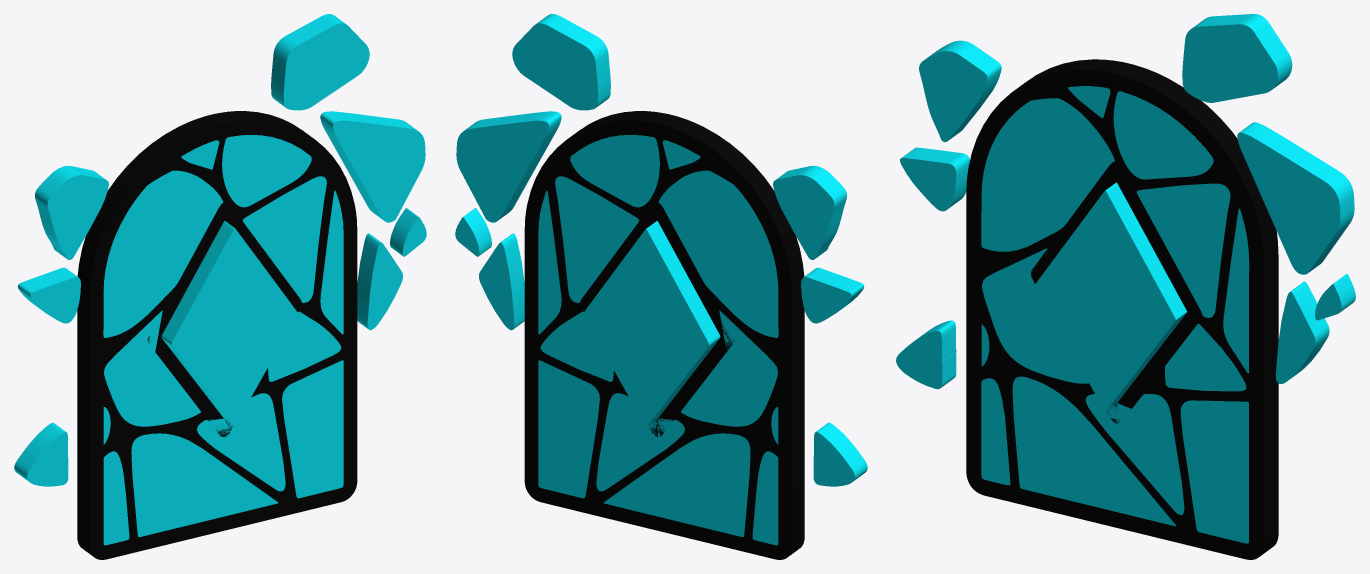
The model's file is M1ALL.fbx.
3 renders of one model, left to right at view 1: azimuth 30°, elevation 25°; view 2: azimuth 150°, elevation 25°; view 3: azimuth 330°, elevation 25°, orthographic. The views are drawn at different scales.
Parts seen in each view (by area): view 1: Fill_16, Fill_32, Fill_30, Fill_28, Fill_14, Fill_40, Fill_12, Fill_18, Fill_34, Fill_36, Fill_10, Fill_42 (+8 smaller); view 2: Fill_16, Fill_32, Fill_30, Fill_28, Fill_14, Fill_40, Fill_12, Fill_18, Fill_34, Fill_36, Fill_10, Fill_42 (+8 smaller); view 3: Fill_16, Fill_32, Fill_30, Fill_28, Fill_14, Fill_40, Fill_12, Fill_34, Fill_18, Fill_36, Fill_42, Fill_10 (+8 smaller).
Part boxes in pixels (x1=…): Fill_16: x1=77, y1=111, x2=357, y2=559; Fill_32: x1=161, y1=221, x2=297, y2=425; Fill_30: x1=103, y1=170, x2=223, y2=337; Fill_28: x1=131, y1=433, x2=278, y2=536; Fill_14: x1=320, y1=111, x2=425, y2=222; Fill_40: x1=282, y1=360, x2=343, y2=498; Fill_12: x1=271, y1=14, x2=369, y2=110; Fill_18: x1=104, y1=310, x2=200, y2=426; Fill_34: x1=242, y1=176, x2=326, y2=302; Fill_36: x1=222, y1=135, x2=311, y2=207; Fill_10: x1=35, y1=165, x2=108, y2=259; Fill_42: x1=197, y1=393, x2=285, y2=491; Fill_16: x1=524, y1=111, x2=804, y2=559; Fill_32: x1=582, y1=221, x2=720, y2=426; Fill_30: x1=658, y1=170, x2=778, y2=337; Fill_28: x1=603, y1=433, x2=750, y2=536; Fill_14: x1=456, y1=111, x2=561, y2=222; Fill_40: x1=538, y1=360, x2=599, y2=498; Fill_12: x1=512, y1=14, x2=610, y2=110; Fill_18: x1=681, y1=310, x2=777, y2=426; Fill_34: x1=555, y1=176, x2=639, y2=302; Fill_36: x1=570, y1=135, x2=659, y2=207; Fill_10: x1=773, y1=165, x2=846, y2=259; Fill_42: x1=596, y1=393, x2=684, y2=491; Fill_16: x1=966, y1=59, x2=1278, y2=559; Fill_32: x1=1035, y1=182, x2=1186, y2=410; Fill_30: x1=981, y1=98, x2=1114, y2=251; Fill_28: x1=1012, y1=376, x2=1175, y2=526; Fill_14: x1=1237, y1=122, x2=1354, y2=274; Fill_40: x1=1180, y1=400, x2=1248, y2=543; Fill_12: x1=1182, y1=14, x2=1292, y2=102; Fill_34: x1=1136, y1=183, x2=1230, y2=317; Fill_18: x1=982, y1=248, x2=1088, y2=383; Fill_36: x1=1113, y1=91, x2=1213, y2=179; Fill_42: x1=1085, y1=393, x2=1184, y2=515; Fill_10: x1=919, y1=40, x2=1001, y2=142.
Size of the model in its own units: 27.26 by 31.22 by 4.
